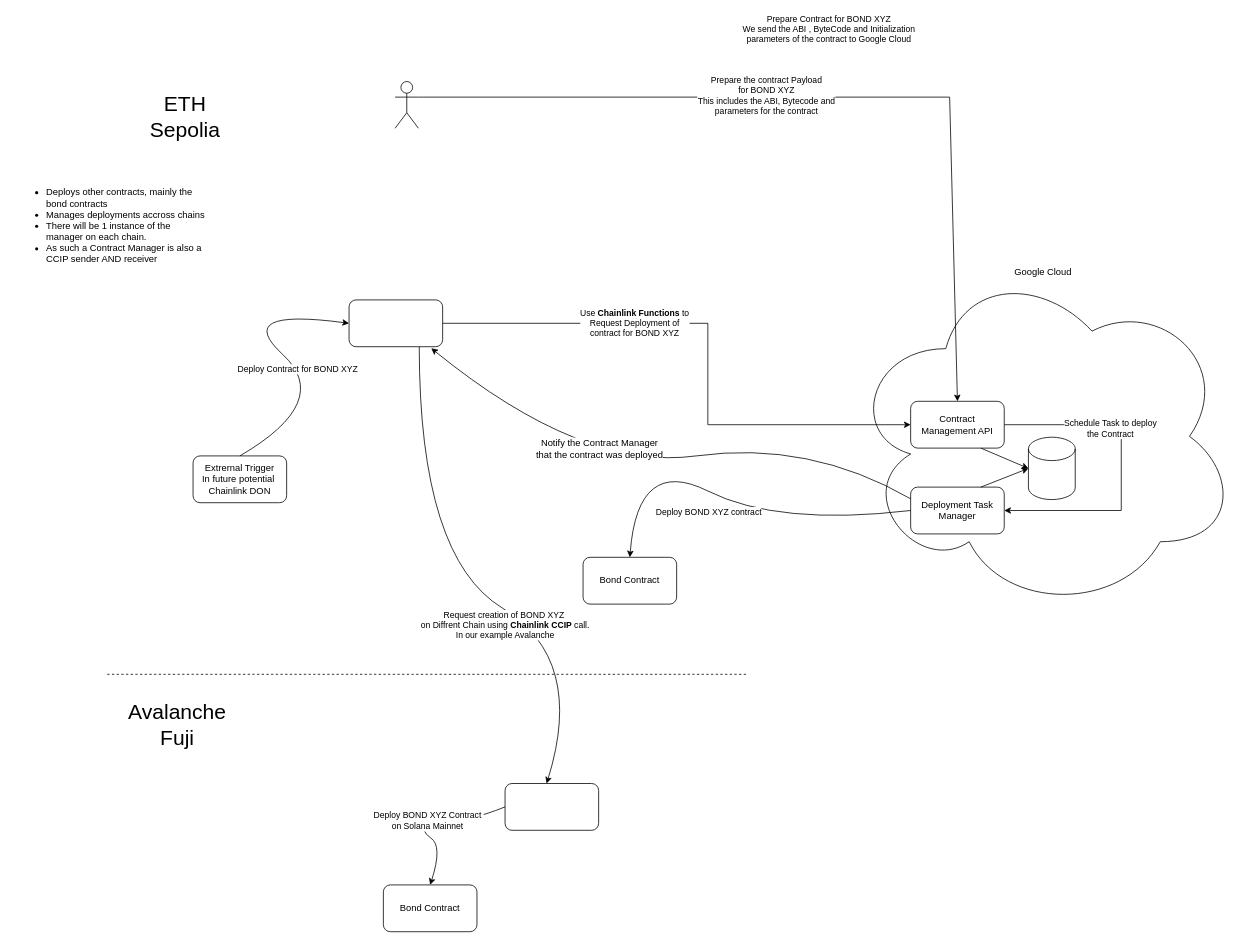
This 1252x945 diagram has some shape labels left out. Here are the shapes that lost their labels. From the top down, the centre of each, then its label:
[406,104]: Actor
[395,323]: ETH Mainnet Contract Manager
[551,806]: Fuji Contract Manager
